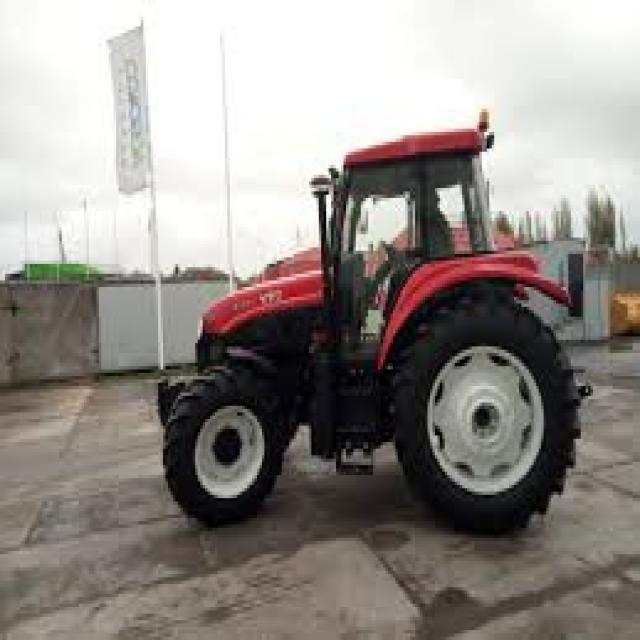Tratores - v5 YOLO V8L 2024-11-13: (157, 127, 588, 534)
